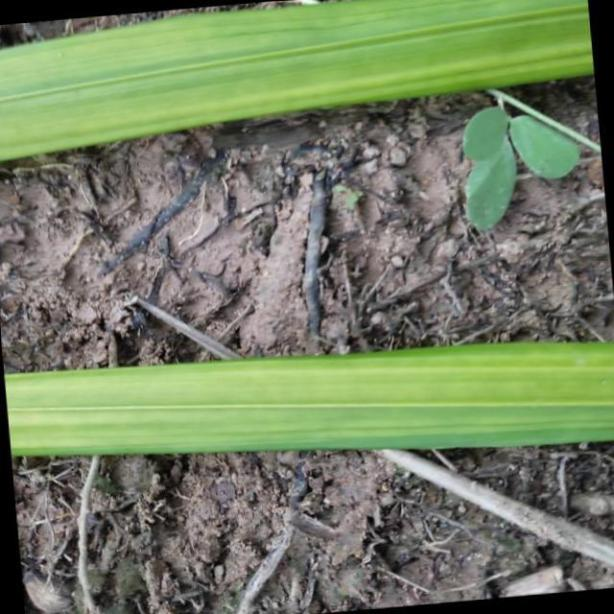nitrogen: (0, 0, 614, 158), (6, 340, 614, 460)
